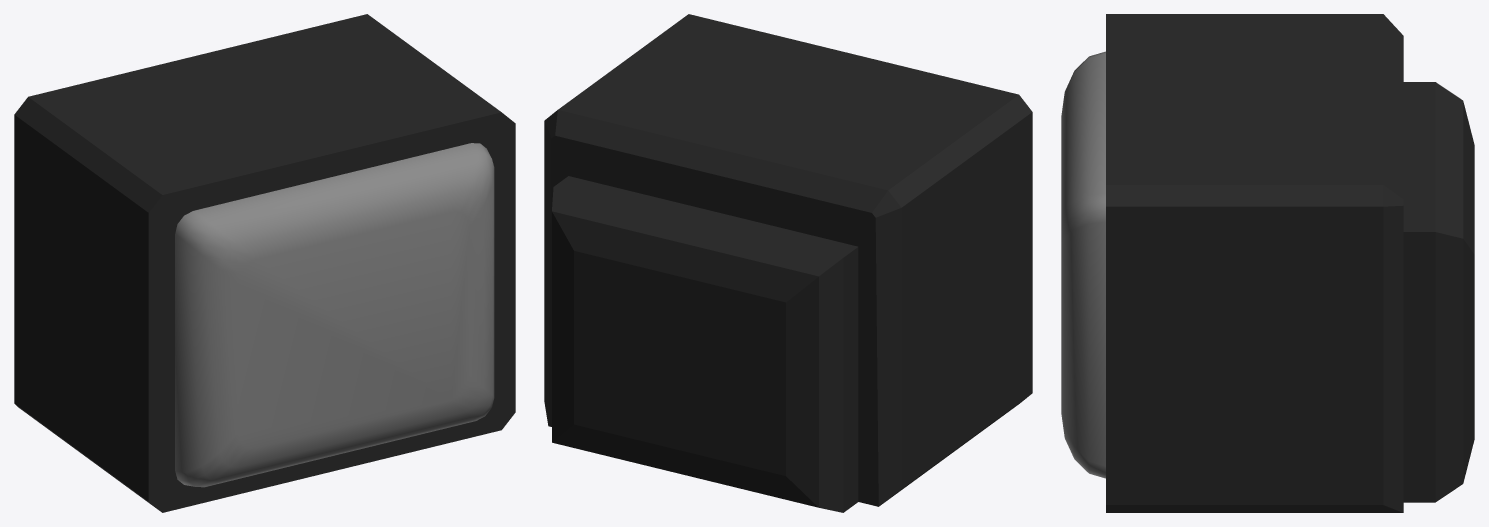
The picture shows the model from 3 angles, left to right: view 1: azimuth 30°, elevation 25°; view 2: azimuth 150°, elevation 25°; view 3: azimuth 270°, elevation 25°; orthographic projection. The views are drawn at different scales.
Visible parts, largest first — view 1: TV; view 2: TV; view 3: TV.
Part boxes in pixels (<box>): TV: <box>14,14,515,512</box>; TV: <box>544,14,1032,512</box>; TV: <box>1061,14,1474,512</box>.
Size of the model in its own units: 138 by 114 by 130.
